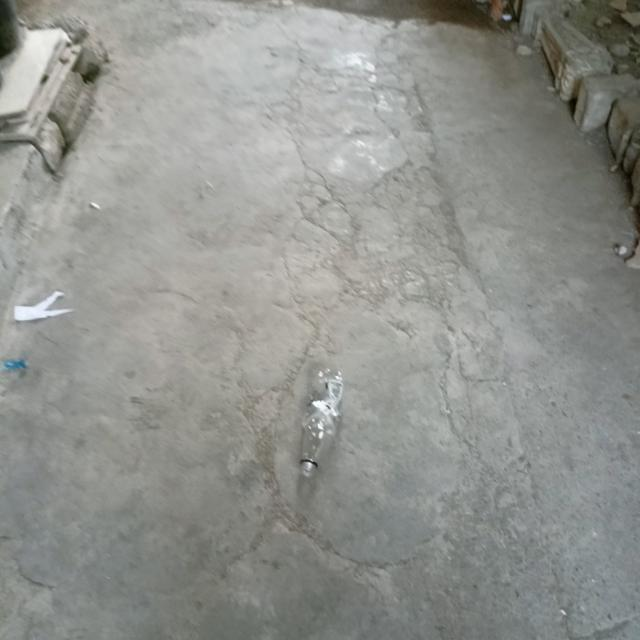Bottle: (299, 368, 344, 477)
